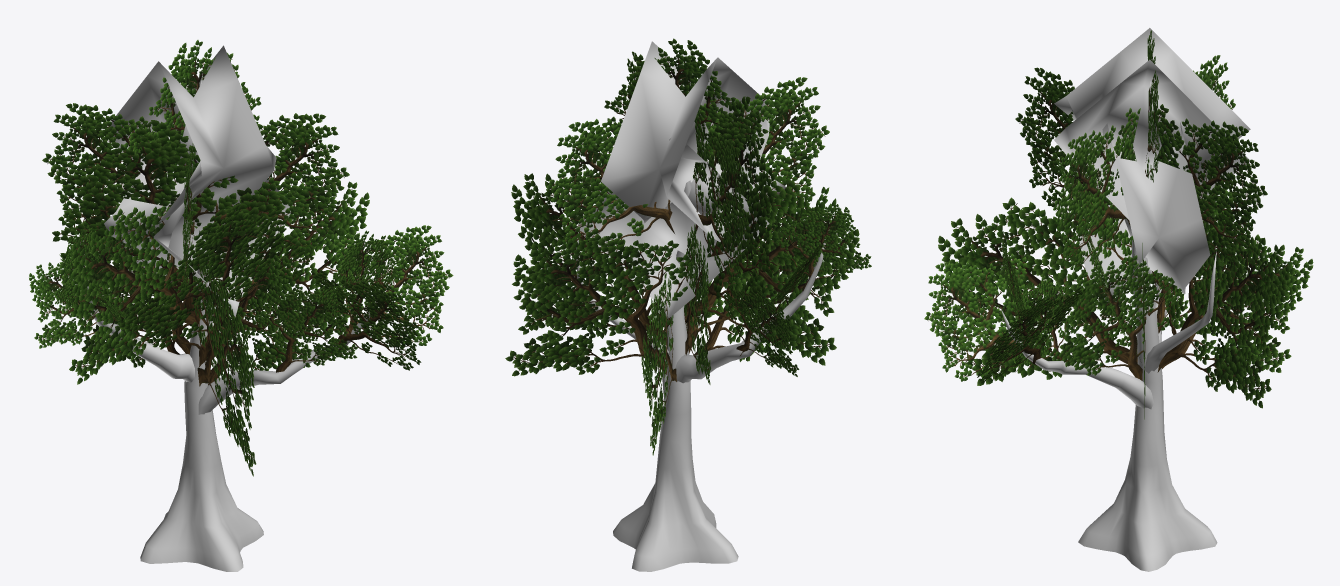
Rendered from Tree.fbx.
3 views of the same model, side by side, from view 1: azimuth 30°, elevation 25°; view 2: azimuth 150°, elevation 25°; view 3: azimuth 270°, elevation 25° (orthographic).
Parts seen in each view (by area): view 1: Mesh; view 2: Mesh; view 3: Mesh.
Boxes of the visible parts, x1,y1,x2,y2 form: Mesh: (29,40,453,571); Mesh: (505,38,871,571); Mesh: (924,28,1313,571).
Size of the model in its own units: 946 by 1301 by 924.
Materials: 3 (1 with a texture image).
